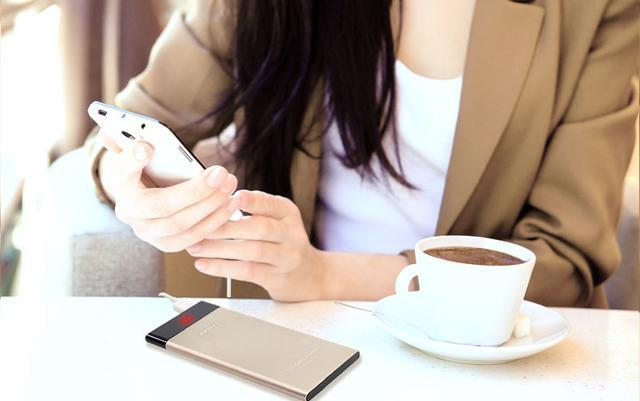reading: (83, 95, 240, 254)
